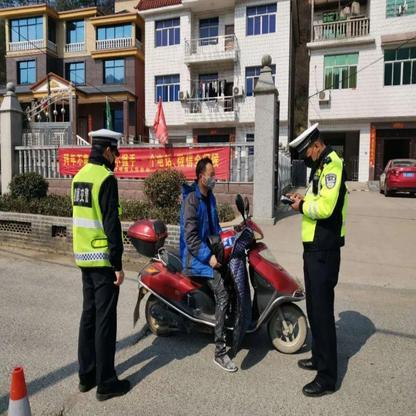target: (126, 156, 308, 372)
